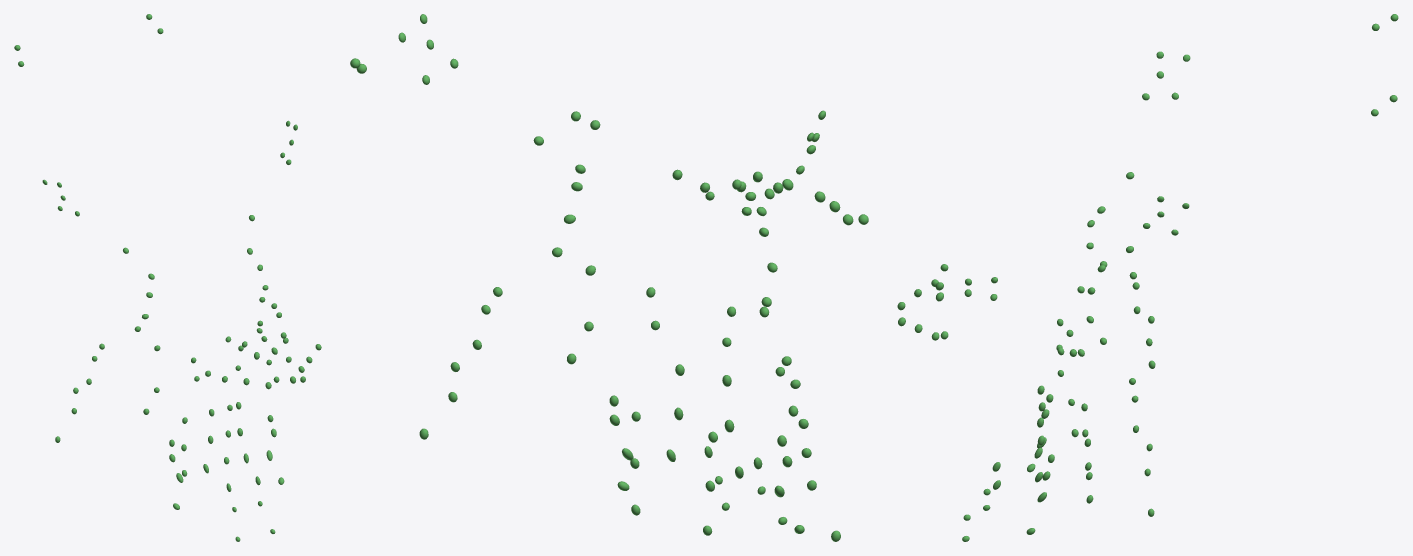
File: lymphatic.neck.glb
3 views of the same model, side by side, from view 1: azimuth 30°, elevation 25°; view 2: azimuth 150°, elevation 25°; view 3: azimuth 270°, elevation 25° (orthographic). The views are drawn at different scales.
Size of the model in its own units: 0.126 by 0.1845 by 0.1757.
